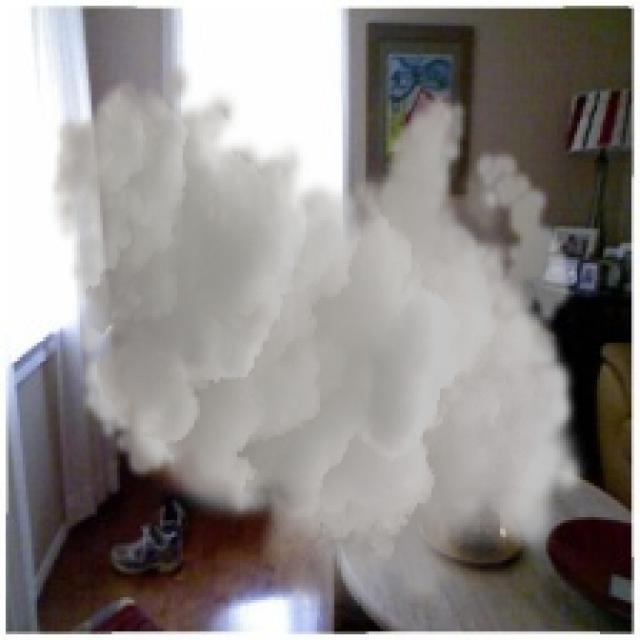smoke: (49, 57, 588, 626)
